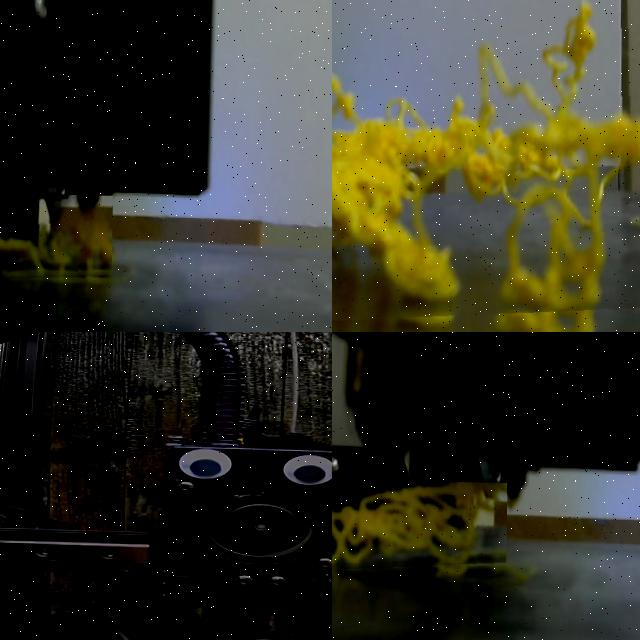spaghetti: (332, 10, 640, 318), (332, 481, 507, 566), (0, 195, 112, 277)
